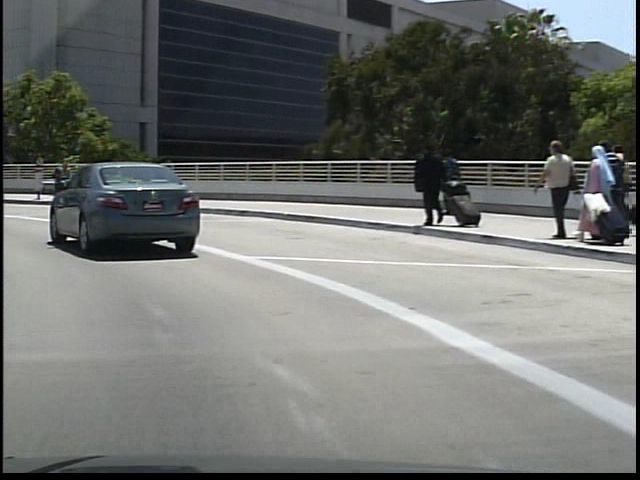person: (531, 133, 576, 242), (409, 139, 449, 225), (435, 143, 465, 220)
